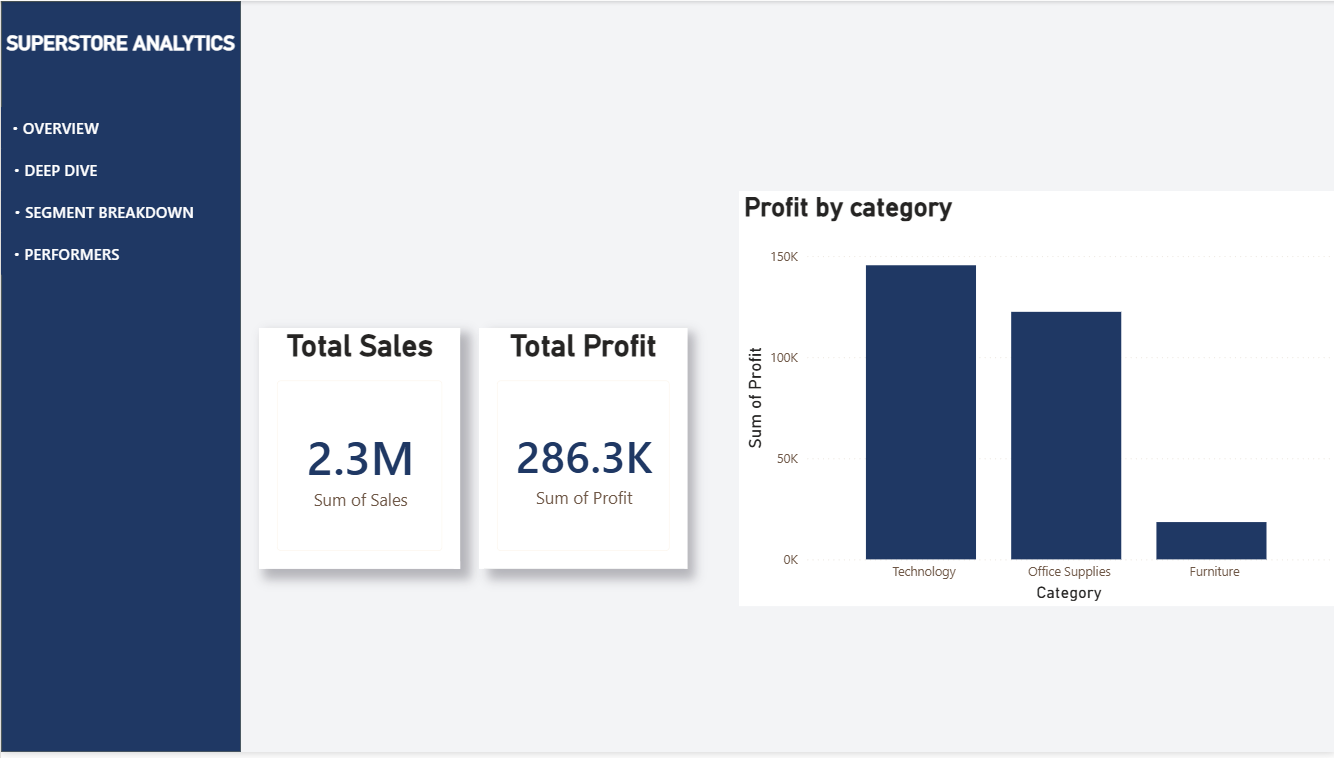

The page's visual inventory and layout, read from the dashboard file:
{"tool":"powerbi","page":{"name":"Total Sales&profit","canvas":[1280,720],"ordinal":0},"visuals":[{"type":"shape","box":[247,313.1,193,230.5],"z":0},{"type":"cardVisual","title":" Total Sales","fields":{"Data":["Sum(SampleSuperstorecleaned.Sales)"]},"box":[247.1,313.4,193.3,231.1],"z":1000},{"type":"shape","box":[463.3,313.4,192.2,231.1],"z":2000},{"type":"cardVisual","title":" Total Profit","fields":{"Data":["Sum(SampleSuperstorecleaned.Profit)"]},"box":[458.7,313.4,200.2,231.1],"z":3000},{"type":"clusteredColumnChart","title":"Profit by category ","fields":{"Category":["SampleSuperstorecleaned.Category"],"Y":["Sum(SampleSuperstorecleaned.Profit)"]},"box":[707.7,181.9,572.3,398.2],"z":4000},{"type":"shape","box":[0,0,230.3,720.3],"z":5000},{"type":"textbox","box":[0,23.6,242.1,56.7],"z":6000},{"type":"actionButton","box":[0,101.5,100.4,40.1],"z":7000},{"type":"actionButton","box":[0,141.7,100.4,40.1],"z":8000},{"type":"actionButton","box":[0,181.8,193.7,40.1],"z":9000},{"type":"actionButton","box":[0,222,121.6,40.1],"z":10000}]}

Visuals, with their boxes in screenshot pixels (x1, y1, x2, y2), scaled from the page's 1280x720 canvas onto the 1334x758 screenshot:
shape: (x1=257, y1=330, x2=459, y2=572)
" Total Sales" cardVisual: (x1=258, y1=330, x2=459, y2=573)
shape: (x1=483, y1=330, x2=683, y2=573)
" Total Profit" cardVisual: (x1=478, y1=330, x2=687, y2=573)
"Profit by category " clusteredColumnChart: (x1=738, y1=192, x2=1333, y2=611)
shape: (x1=0, y1=0, x2=240, y2=757)
textbox: (x1=0, y1=25, x2=252, y2=85)
actionButton: (x1=0, y1=107, x2=105, y2=149)
actionButton: (x1=0, y1=149, x2=105, y2=191)
actionButton: (x1=0, y1=191, x2=202, y2=234)
actionButton: (x1=0, y1=234, x2=127, y2=276)
